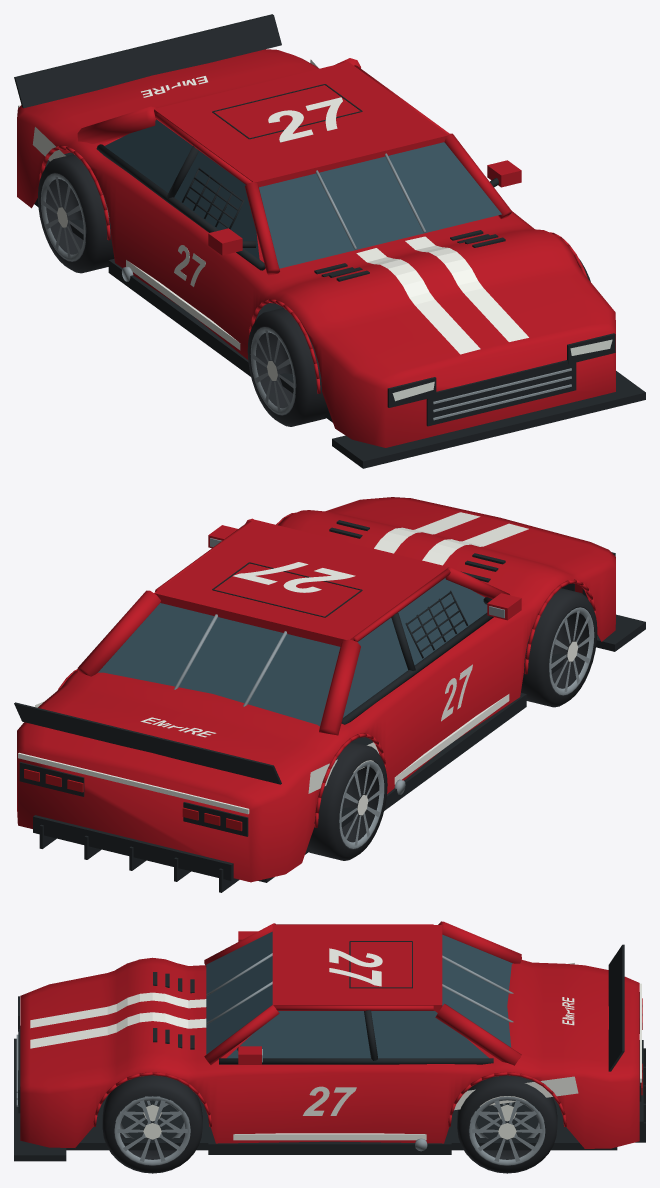
The model's file is empire-sc01.glb.
3 renders of one model, top to bottom at view 1: azimuth 30°, elevation 25°; view 2: azimuth 150°, elevation 25°; view 3: azimuth 270°, elevation 25°, orthographic. The views are drawn at different scales.
Parts seen in each view (by area): view 1: SC01 sculpted body and open wheel arches, Crowned roof, Front windshield, Deck-mounted blade spoiler, Side glazing, Front splitter, Wheel 3 - Slick tire, Wheel 1 - Slick tire, Front grille, Hood racing stripe, Hood racing stripe.001, Side skirt (+16 smaller); view 2: SC01 sculpted body and open wheel arches, Crowned roof, Rear windshield, Side glazing, Wheel 3 - Slick tire, Wheel 1 - Slick tire, Deck-mounted blade spoiler, Rear diffuser, Side skirt, C pillar.001, C pillar, Rear bumper accent (+16 smaller); view 3: SC01 sculpted body and open wheel arches, Crowned roof, Side glazing.001, Undertray, Front windshield, Rear windshield, Wheel 4 - Slick tire, Wheel 2 - Slick tire, Side skirt.001, Deck-mounted blade spoiler, Window sill.001, Hood racing stripe.001 (+17 smaller).
Part boxes in pixels (x1,y1,x2,y2): SC01 sculpted body and open wheel arches: (17,49,615,447); Crowned roof: (154,61,448,187); Front windshield: (259,142,501,268); Deck-mounted blade spoiler: (14,14,281,108); Side glazing: (104,120,259,259); Front splitter: (332,371,645,468); Wheel 3 - Slick tire: (247,308,328,426); Wheel 1 - Slick tire: (38,154,114,273); Front grille: (426,360,576,426); Hood racing stripe: (356,248,480,354); Hood racing stripe.001: (405,236,528,341); Side skirt: (108,259,250,376); SC01 sculpted body and open wheel arches: (17,497,615,882); Crowned roof: (154,520,448,646); Rear windshield: (98,603,340,726); Side glazing: (343,578,487,717); Wheel 3 - Slick tire: (521,588,597,707); Wheel 1 - Slick tire: (308,742,387,860); Deck-mounted blade spoiler: (14,702,281,784); Rear diffuser: (33,815,234,880); Side skirt: (384,693,526,810); C pillar.001: (77,590,160,676); C pillar: (319,639,360,735); Rear bumper accent: (18,752,249,814); SC01 sculpted body and open wheel arches: (20,957,639,1148); Crowned roof: (272,925,442,1012); Side glazing.001: (227,1011,488,1058); Undertray: (66,1094,617,1150); Front windshield: (206,931,272,1054); Rear windshield: (442,934,512,1047); Wheel 4 - Slick tire: (102,1075,202,1173); Wheel 2 - Slick tire: (457,1075,557,1173); Side skirt.001: (208,1140,451,1154); Deck-mounted blade spoiler: (608,944,624,1071); Window sill.001: (219,1058,493,1064); Hood racing stripe.001: (30,1012,206,1048).
Bounding box in the file's own units: 2.35 × 1.34 × 5.06.
